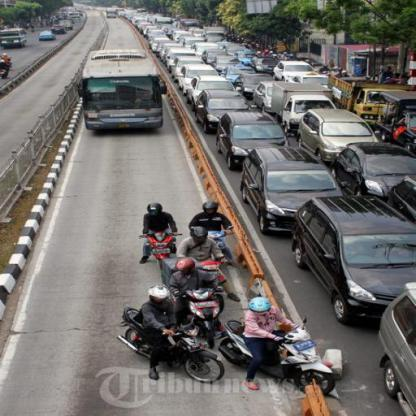bus: (78, 46, 170, 134)
car: (290, 188, 411, 306), (239, 146, 322, 231), (214, 108, 282, 167)
motorbike: (119, 299, 220, 386), (226, 322, 340, 387), (186, 277, 228, 349), (146, 227, 178, 264)
